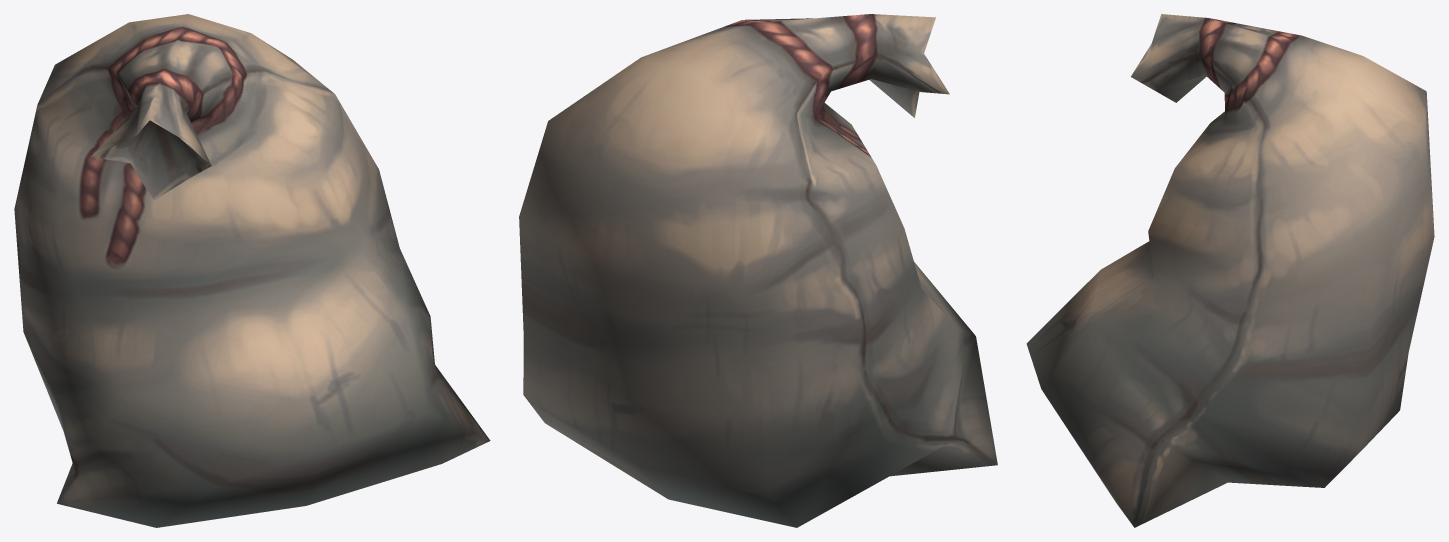
Rendered from sack_of_sand_large1.fbx.
The picture shows the model from 3 angles, left to right: view 1: azimuth 30°, elevation 25°; view 2: azimuth 150°, elevation 25°; view 3: azimuth 270°, elevation 25°; orthographic projection. The views are drawn at different scales.
Visible parts, largest first — view 1: sack_of_sand_large1; view 2: sack_of_sand_large1; view 3: sack_of_sand_large1.
Part boxes in pixels (box(x1,y1,x2,y2)): sack_of_sand_large1: box(14, 14, 490, 527); sack_of_sand_large1: box(519, 14, 997, 527); sack_of_sand_large1: box(1026, 14, 1434, 527).
Size of the model in its own units: 94.01 by 94.01 by 88.45.
